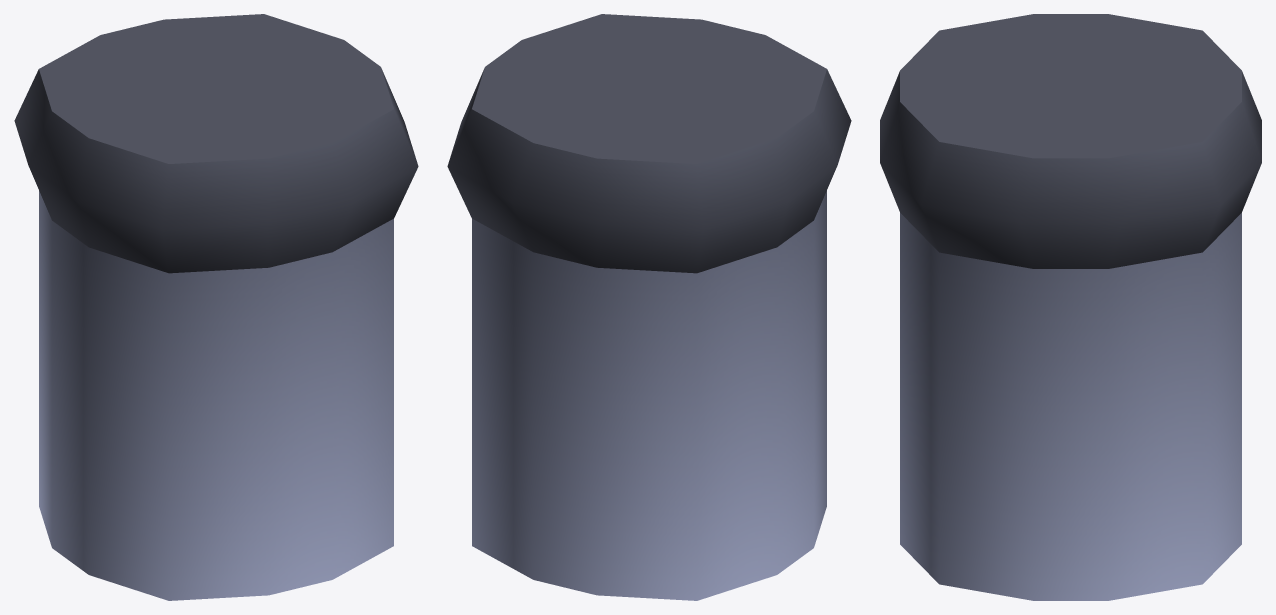
The model's file is block-snow-narrow.glb.
3 renders of one model, left to right at view 1: azimuth 30°, elevation 25°; view 2: azimuth 150°, elevation 25°; view 3: azimuth 270°, elevation 25°, orthographic.
Parts seen in each view (by area): view 1: block-snow-narrow; view 2: block-snow-narrow; view 3: block-snow-narrow.
Boxes of the visible parts, x1=… form: block-snow-narrow: x1=14, y1=14, x2=418, y2=600; block-snow-narrow: x1=447, y1=14, x2=851, y2=600; block-snow-narrow: x1=880, y1=14, x2=1261, y2=600.
Size of the model in its own units: 0.7821 by 1 by 0.7821.
